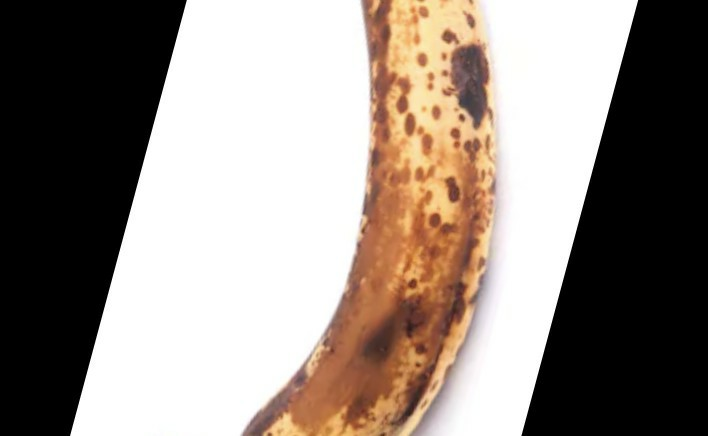rotten_banana: (248, 1, 499, 436)
